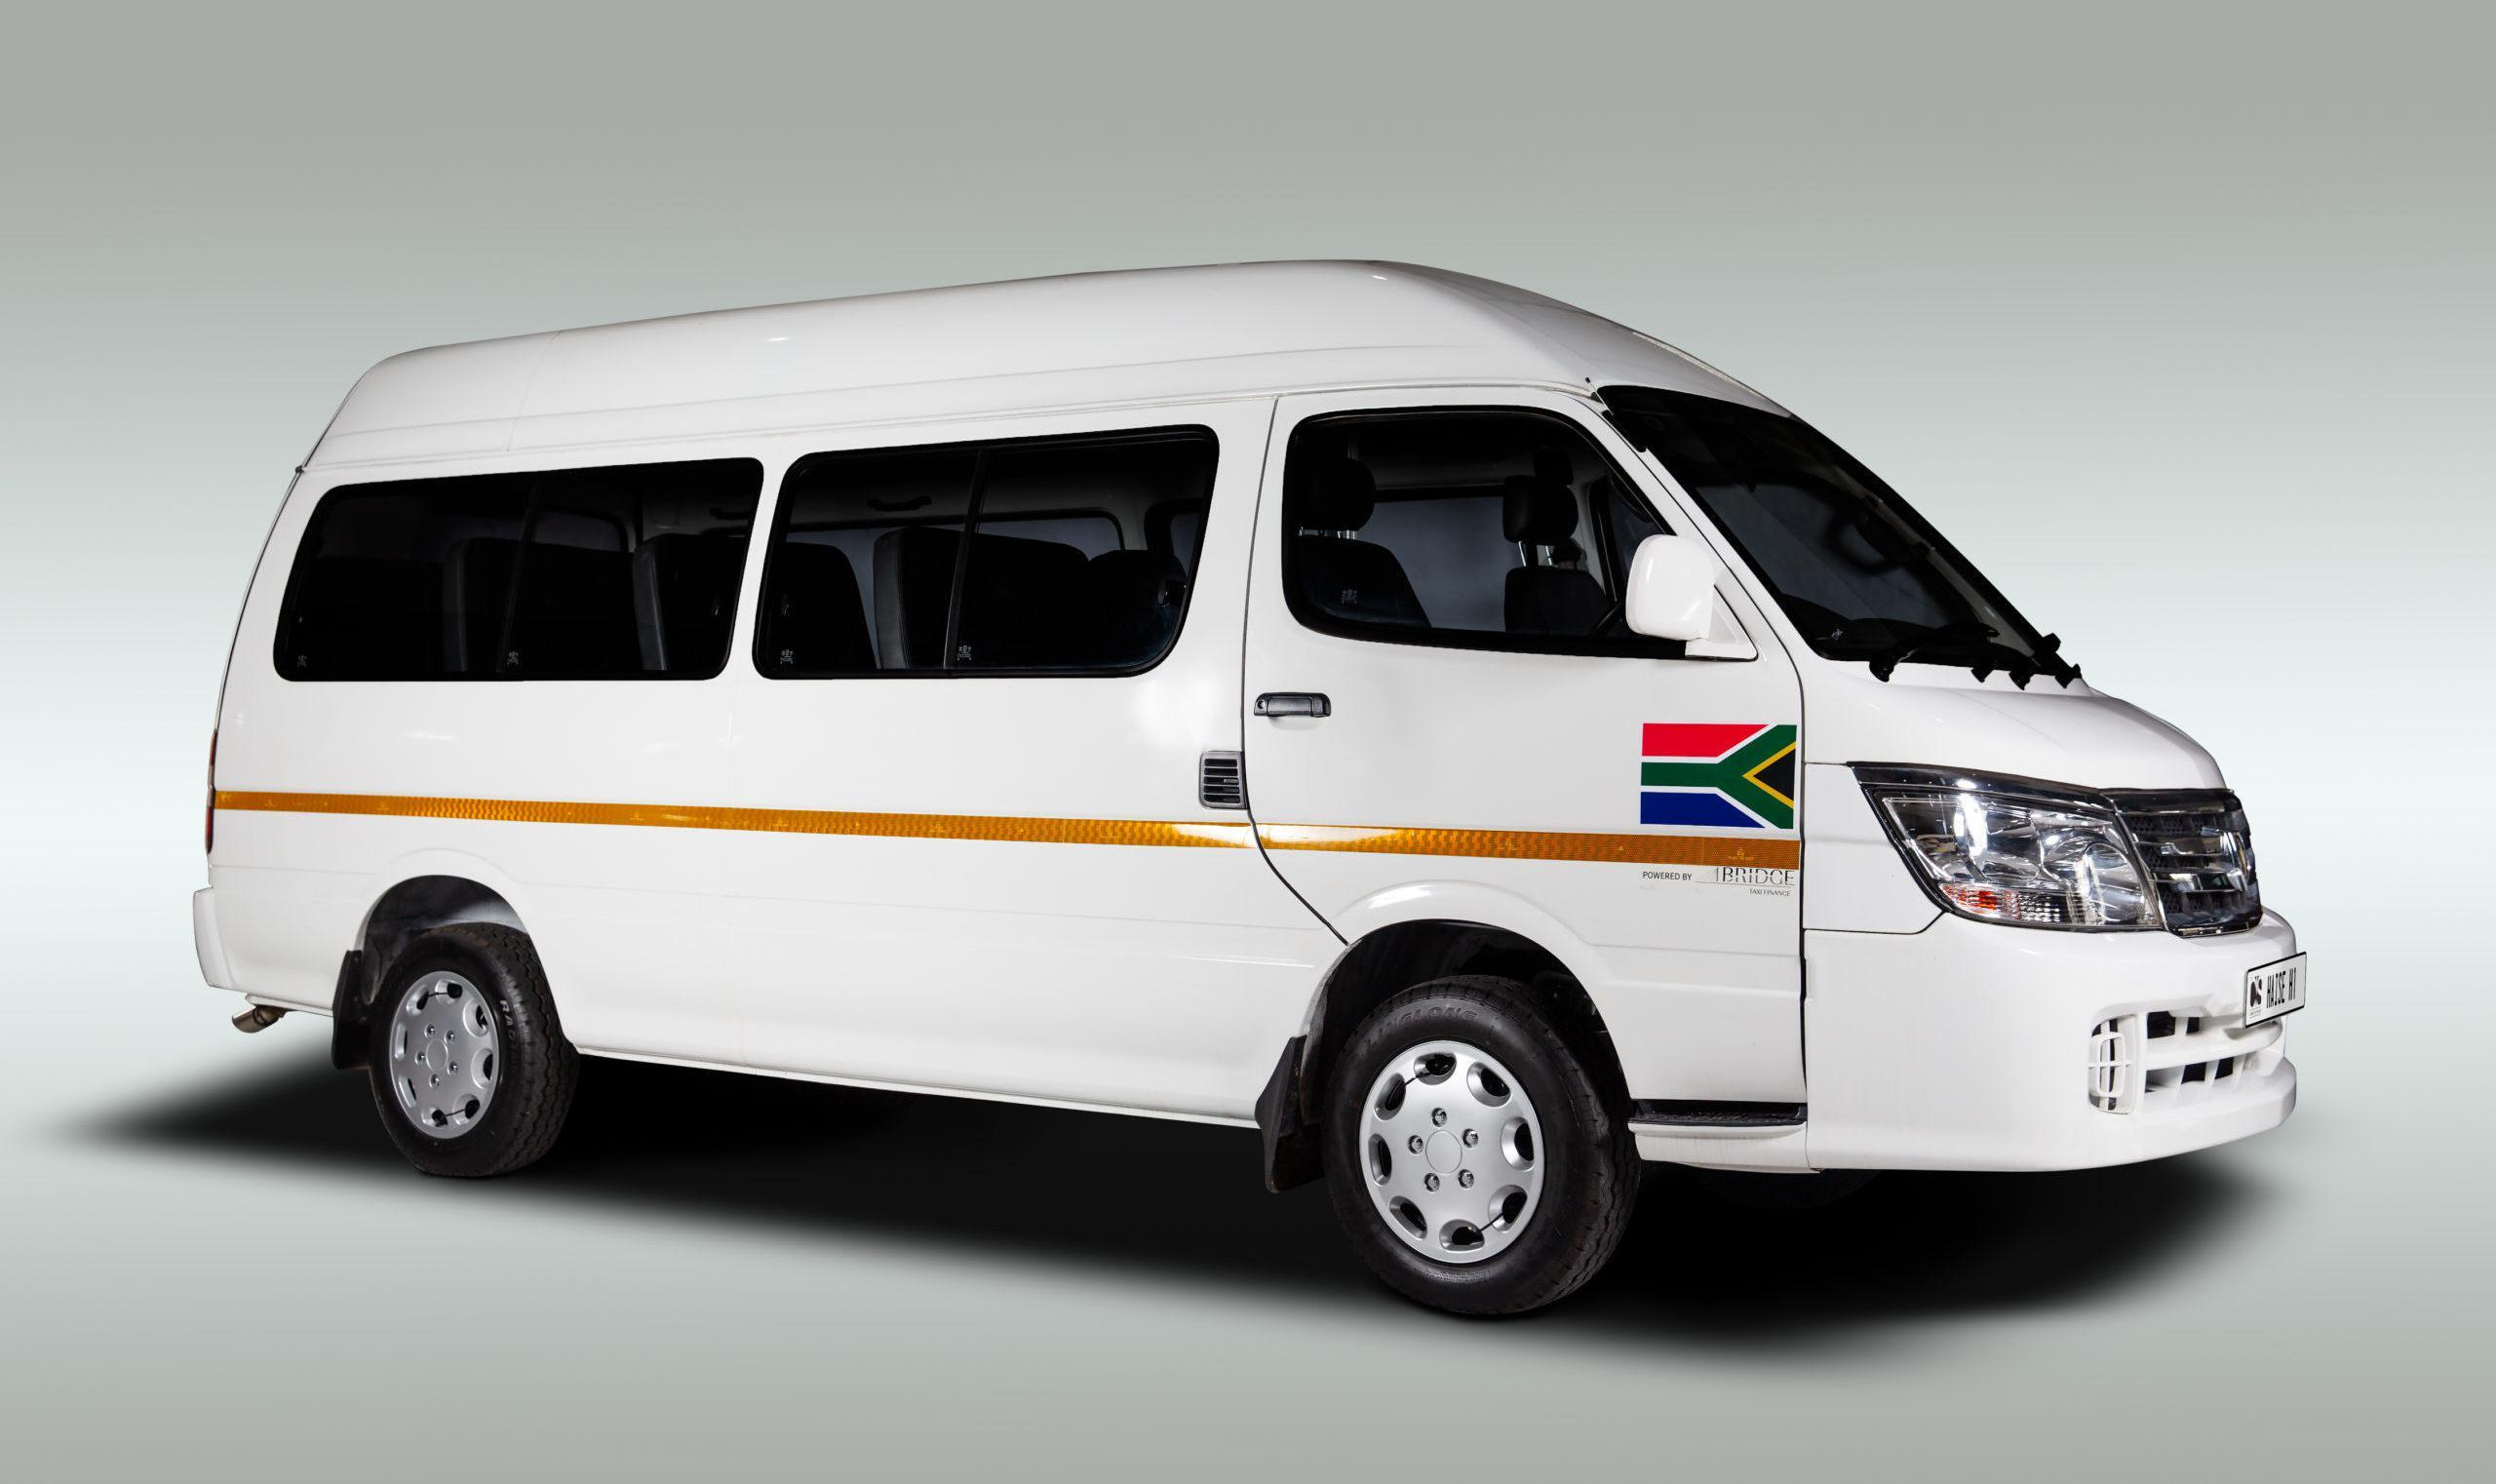van: (193, 269, 2325, 1247)
